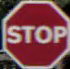Stop: (4, 1, 67, 68)
